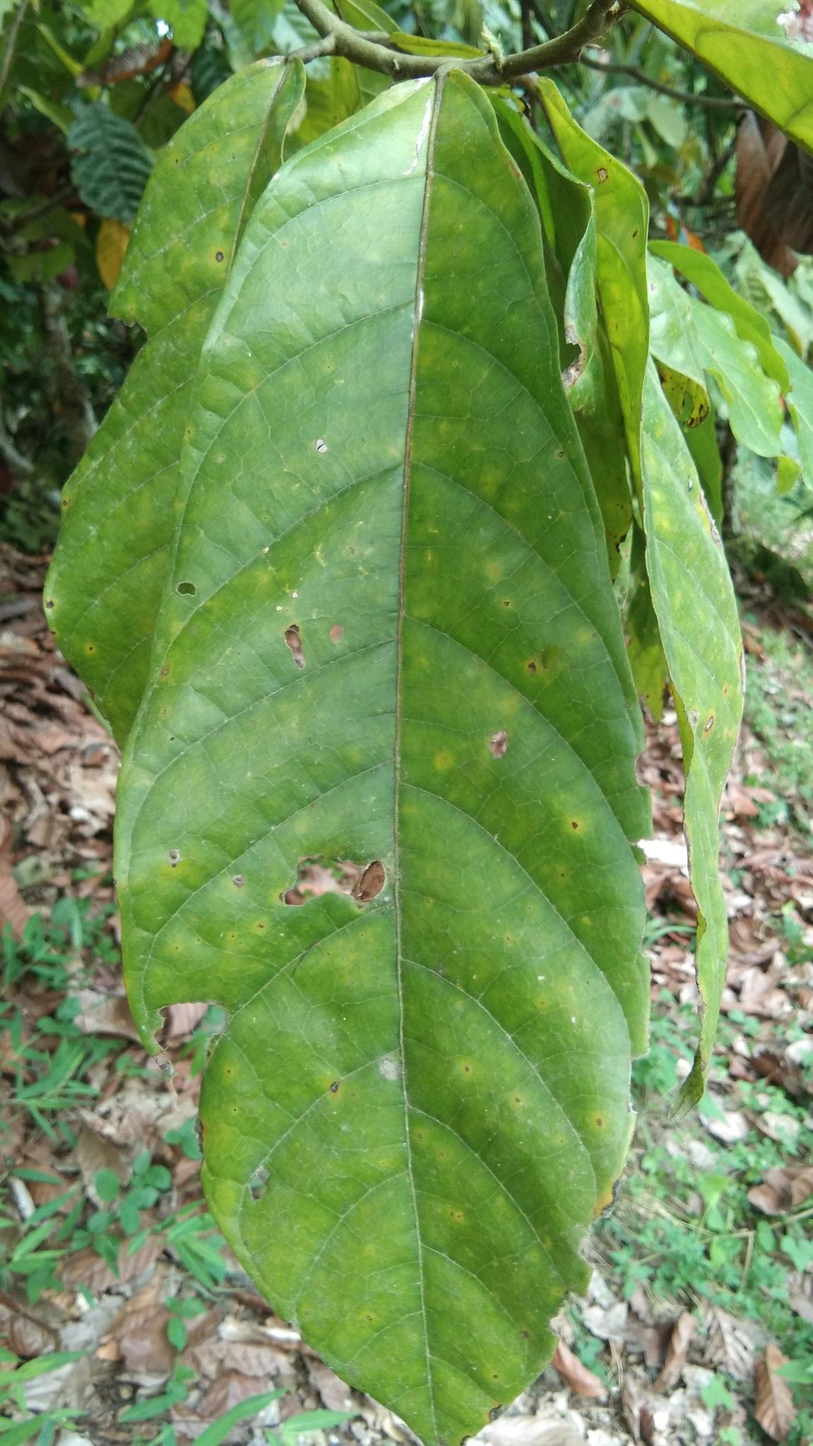Fosforo: (115, 63, 653, 1446)
